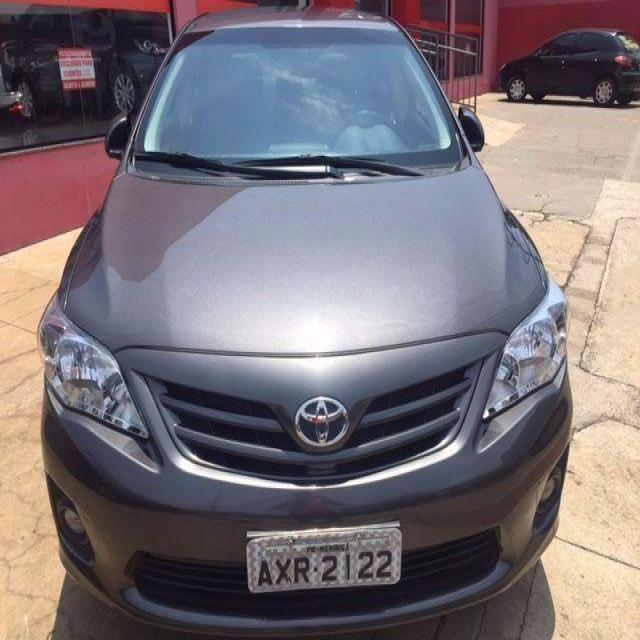Placa: (243, 523, 404, 596)
